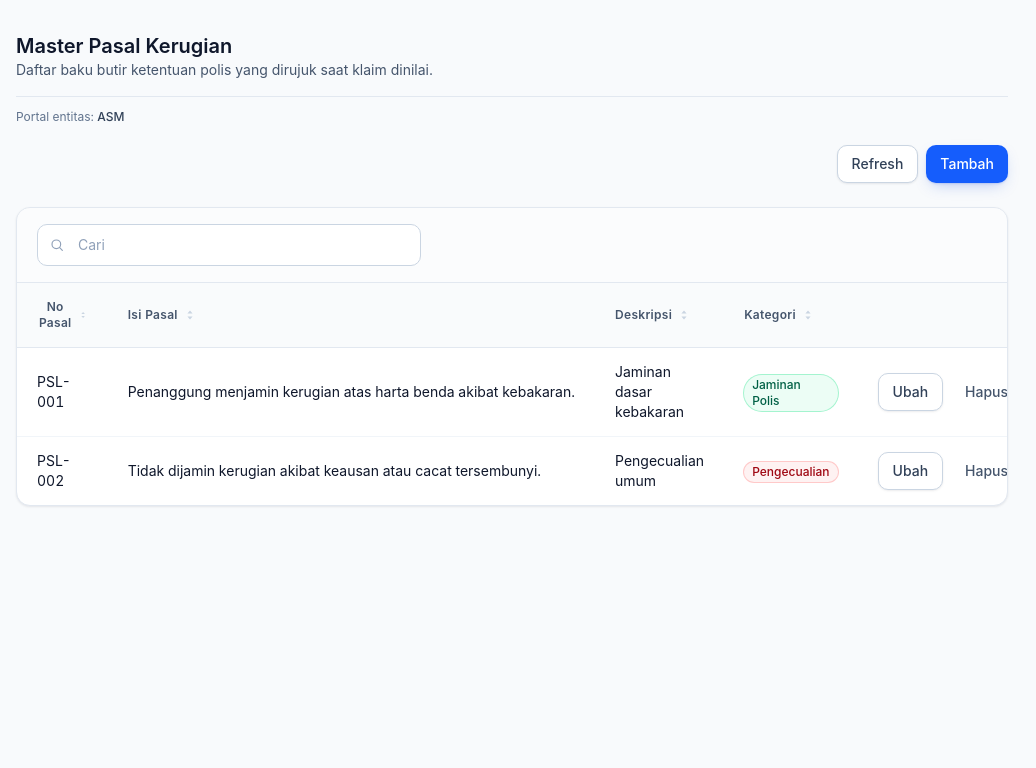
Test: form › memuat satu baris tersendiri saat Ubah ditekan, karena daftar tidak memuat lini bisnis
The width and height of the screenshot is (1036, 768).
expect the table is shown: met, box 17,283 -> 1007,505
Click the button with aria-label "Ubah PSL-002".
click(910, 471)  # box 878,452 -> 943,490
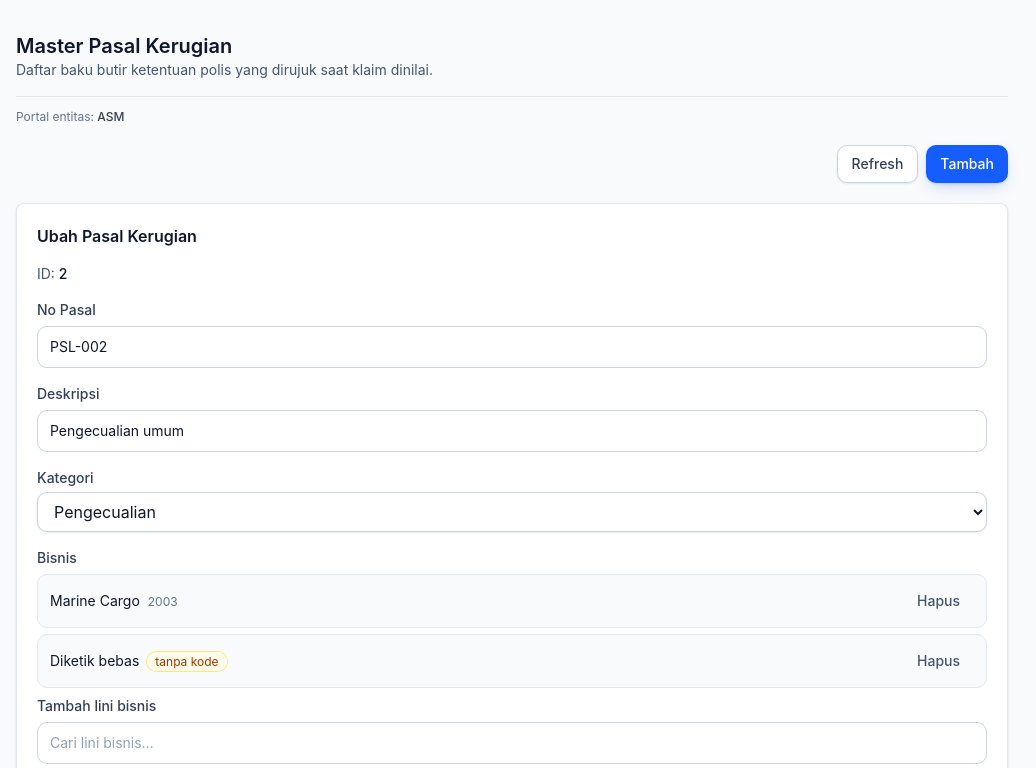
expect the text "Marine Cargo" is shown: met, box 50,592 -> 140,609
